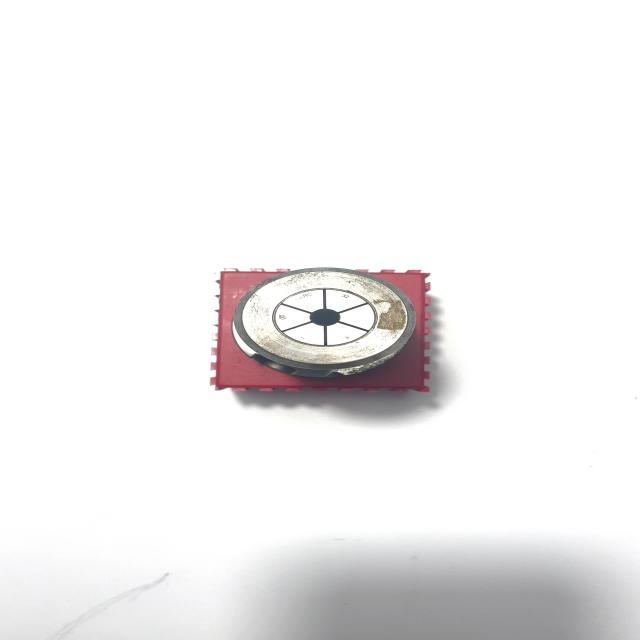Filled_Slot: (232, 268, 415, 378)
